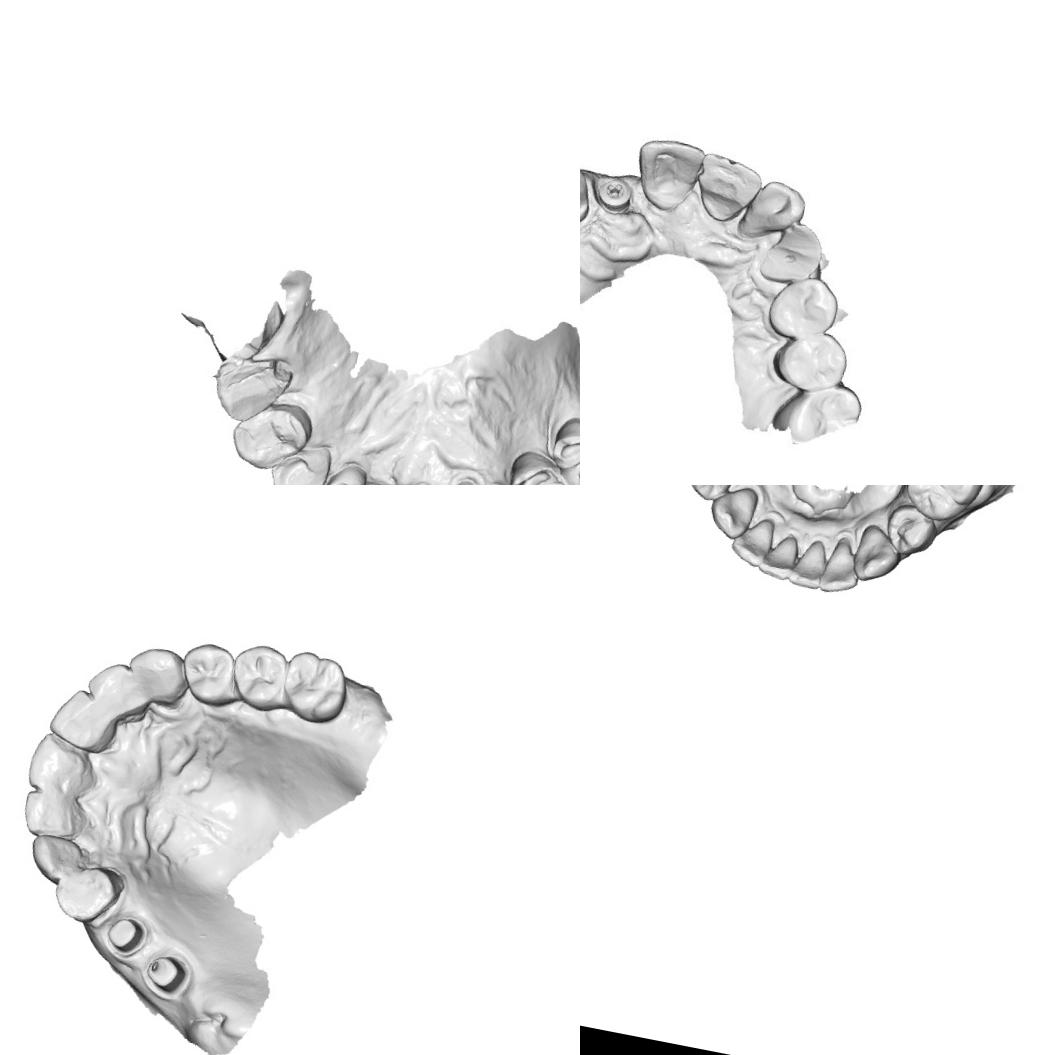abutment: (142, 949, 190, 995), (102, 913, 146, 957)
canine: (754, 216, 834, 293), (121, 641, 194, 711), (848, 520, 906, 588), (263, 435, 338, 485), (24, 830, 86, 888), (704, 485, 760, 541), (580, 157, 600, 228)
implant_minus: (591, 174, 632, 213)
incisor: (23, 729, 104, 801), (44, 684, 120, 756), (636, 136, 706, 212), (80, 656, 148, 727), (694, 153, 764, 220), (18, 787, 91, 844), (740, 180, 799, 246), (726, 512, 776, 570), (816, 538, 864, 597), (786, 534, 830, 591), (754, 528, 800, 582), (311, 465, 370, 485)
molar: (276, 646, 354, 728), (898, 485, 990, 529)
premolar: (204, 345, 298, 432), (225, 394, 317, 480), (761, 266, 844, 348), (767, 318, 853, 396), (223, 638, 293, 715), (48, 858, 123, 927), (174, 638, 242, 710), (880, 499, 942, 560), (498, 445, 580, 485), (541, 414, 580, 485), (681, 485, 740, 505)
